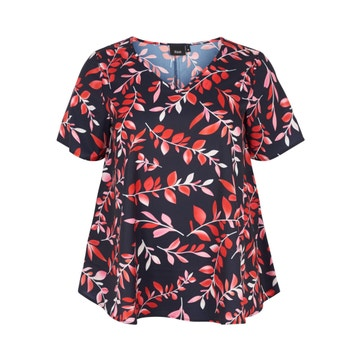C_short blouse: (55, 36, 303, 326)
